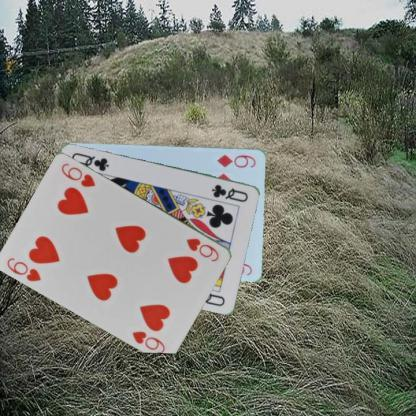6d: (215, 151, 257, 169)
6h: (4, 254, 43, 284), (184, 235, 220, 263)
Qc: (209, 182, 250, 204)
